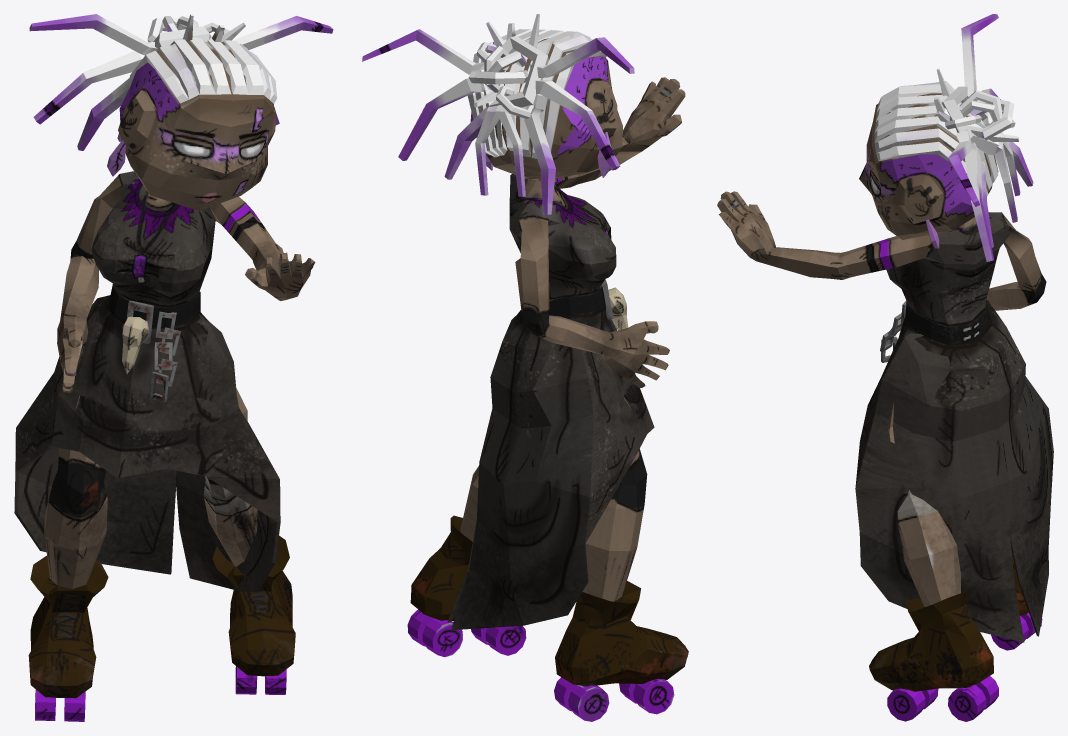
Rendered from bruja_000019.obj.
The picture shows the model from 3 angles, left to right: view 1: azimuth 30°, elevation 25°; view 2: azimuth 150°, elevation 25°; view 3: azimuth 270°, elevation 25°; orthographic projection. The views are drawn at different scales.
Visible parts, largest first — view 1: Bruja_Plane.001; view 2: Bruja_Plane.001; view 3: Bruja_Plane.001.
Boxes of the visible parts, x1=… form: Bruja_Plane.001: x1=14, y1=14, x2=333, y2=721; Bruja_Plane.001: x1=362, y1=14, x2=688, y2=721; Bruja_Plane.001: x1=717, y1=14, x2=1053, y2=721.
Bounding box in the file's own units: 7.97 × 16.45 × 8.02.
